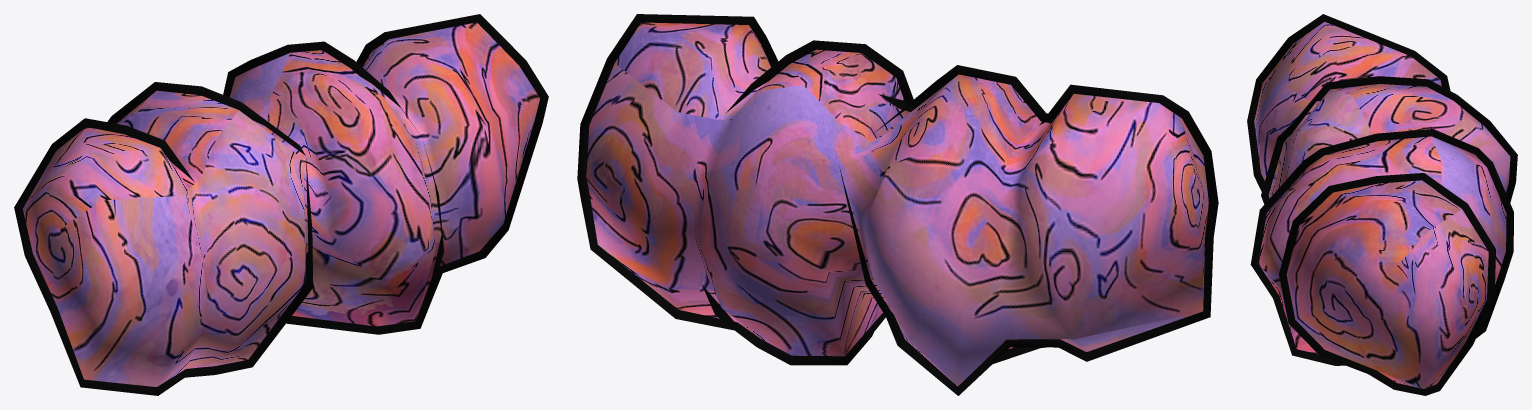
File: s0_Bush_02__1__01.glb
3 renders of one model, left to right at view 1: azimuth 30°, elevation 25°; view 2: azimuth 150°, elevation 25°; view 3: azimuth 270°, elevation 25°, orthographic. The views are drawn at different scales.
Parts seen in each view (by area): view 1: node_Bush_02 (1); view 2: node_Bush_02 (1); view 3: node_Bush_02 (1).
Boxes of the visible parts, <box> form: node_Bush_02 (1): <box>14,14,548,395</box>; node_Bush_02 (1): <box>577,14,1218,395</box>; node_Bush_02 (1): <box>1247,14,1517,395</box>.
Size of what is drawn, in the model's own units: 2.85 by 1.36 by 1.47.
2 materials, 1 textured.
